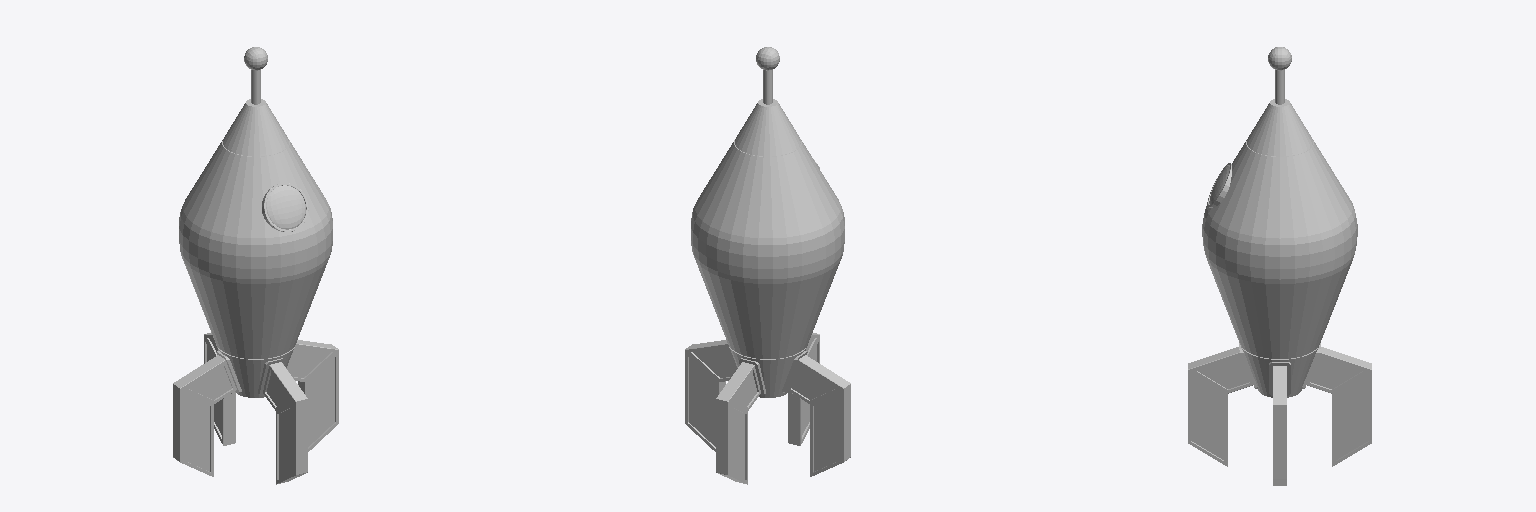
File: aiqbun.obj
3 views of the same model, side by side, from view 1: azimuth 30°, elevation 25°; view 2: azimuth 150°, elevation 25°; view 3: azimuth 270°, elevation 25° (orthographic).
Parts seen in each view (by area): view 1: Roket_1; view 2: Roket_1; view 3: Roket_1.
Part boxes in pixels (x1,y1,x2,y2): Roket_1: (173, 47, 338, 484); Roket_1: (685, 47, 850, 484); Roket_1: (1188, 47, 1371, 485).
Size of the model in its own units: 0.6242 by 1.56 by 0.6242.